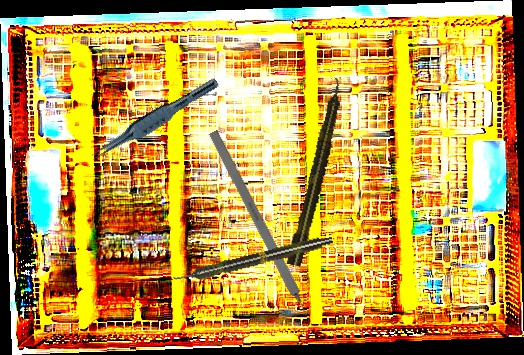Handpiece: (285, 76, 349, 268), (172, 232, 334, 287)
Hook Surgical: (207, 129, 320, 334)
Tissue Forceps: (87, 69, 221, 169)
